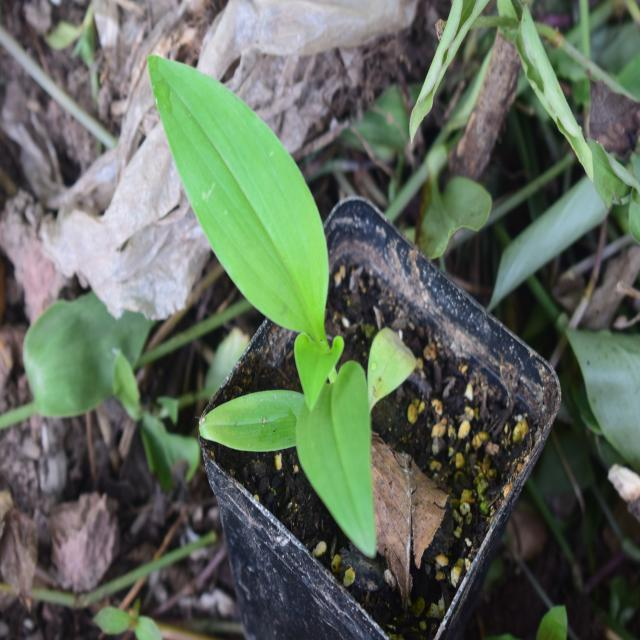Common Dayflower: (138, 55, 401, 532)
